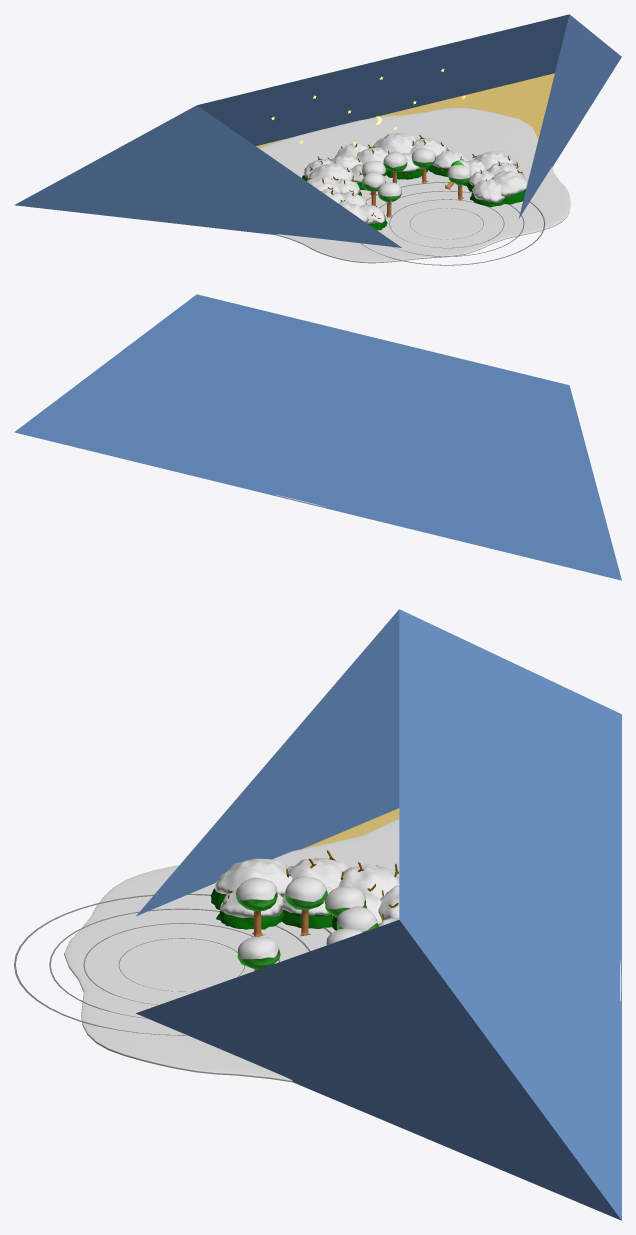
Rendered from Map-MiniGame DolDunJiGi.fbx.
3 views of the same model, one above another, from view 1: azimuth 30°, elevation 25°; view 2: azimuth 150°, elevation 25°; view 3: azimuth 270°, elevation 25° (orthographic). The views are drawn at different scales.
Parts seen in each view (by area): view 1: Plane, Cube, Torus.003, Icosphere.021, Icosphere.018, Icosphere.009, Icosphere.007, Icosphere.002, Cylinder.006, Cylinder.002, Cylinder.005, Icosphere.020 (+7 smaller); view 2: Plane; view 3: Plane, Cube, Torus.003, Icosphere.014, Icosphere.013, Icosphere.016, Cylinder.003, Cylinder.002, Icosphere.015, Cylinder.005, Icosphere.012, Cylinder.001 (+1 smaller).
Boxes of the visible parts, x1=… form: Plane: x1=14, y1=14, x2=621, y2=247; Cube: x1=259, y1=108, x2=570, y2=263; Torus.003: x1=360, y1=182, x2=545, y2=265; Icosphere.021: x1=491, y1=170, x2=527, y2=204; Icosphere.018: x1=470, y1=177, x2=505, y2=207; Icosphere.009: x1=372, y1=133, x2=417, y2=153; Icosphere.007: x1=307, y1=163, x2=354, y2=181; Icosphere.002: x1=428, y1=150, x2=468, y2=176; Cylinder.006: x1=411, y1=148, x2=435, y2=184; Cylinder.002: x1=377, y1=182, x2=401, y2=217; Cylinder.005: x1=447, y1=165, x2=471, y2=200; Icosphere.020: x1=472, y1=151, x2=516, y2=170; Plane: x1=14, y1=294, x2=621, y2=580; Plane: x1=136, y1=609, x2=621, y2=1220; Cube: x1=64, y1=818, x2=621, y2=1082; Torus.003: x1=14, y1=893, x2=331, y2=1035; Icosphere.014: x1=211, y1=858, x2=292, y2=909; Icosphere.013: x1=216, y1=889, x2=283, y2=929; Icosphere.016: x1=338, y1=862, x2=399, y2=898; Cylinder.003: x1=285, y1=876, x2=327, y2=936; Cylinder.002: x1=235, y1=877, x2=277, y2=936; Icosphere.015: x1=288, y1=850, x2=348, y2=889; Cylinder.005: x1=237, y1=936, x2=280, y2=970; Icosphere.012: x1=282, y1=887, x2=332, y2=928; Cylinder.001: x1=325, y1=886, x2=365, y2=917.
Size of the model in its own units: 142055 by 30474 by 72061.
